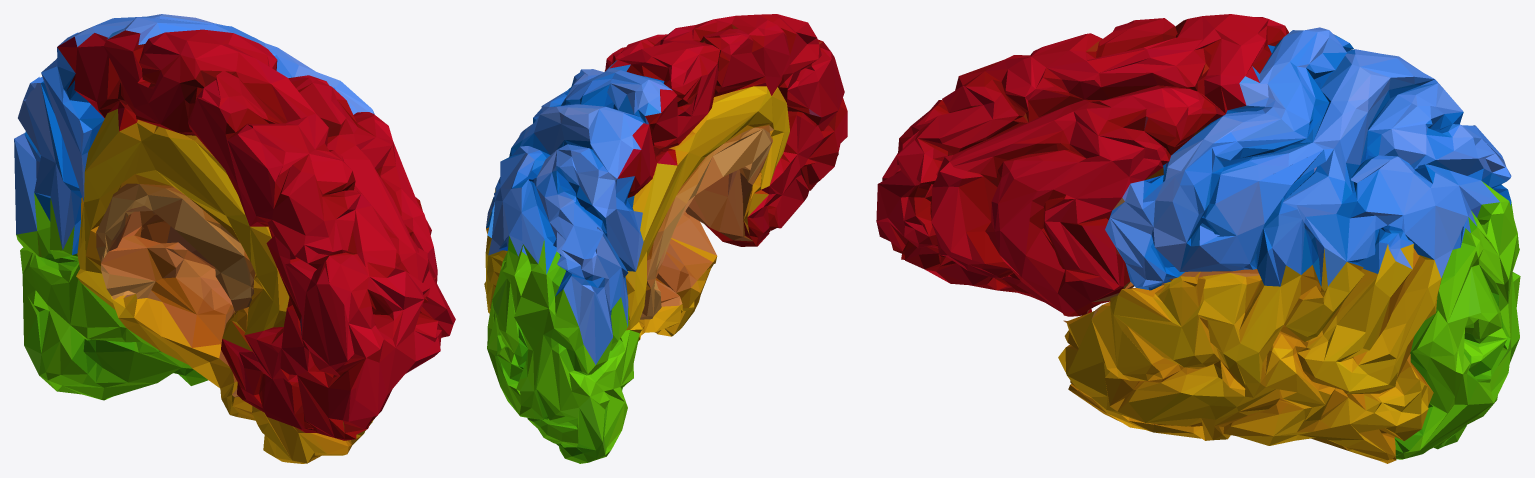
3 renders of one model, left to right at view 1: azimuth 30°, elevation 25°; view 2: azimuth 150°, elevation 25°; view 3: azimuth 270°, elevation 25°, orthographic. The views are drawn at different scales.
Visible parts, largest first — view 1: right_Mesh.001; view 2: right_Mesh.001; view 3: right_Mesh.001.
Boxes of the visible parts, <box> form: right_Mesh.001: <box>14,14,455,463</box>; right_Mesh.001: <box>484,14,847,463</box>; right_Mesh.001: <box>876,14,1520,463</box>.
Size of the model in its own units: 0.2921 by 0.5502 by 0.7708.
1 material, 1 textured.
